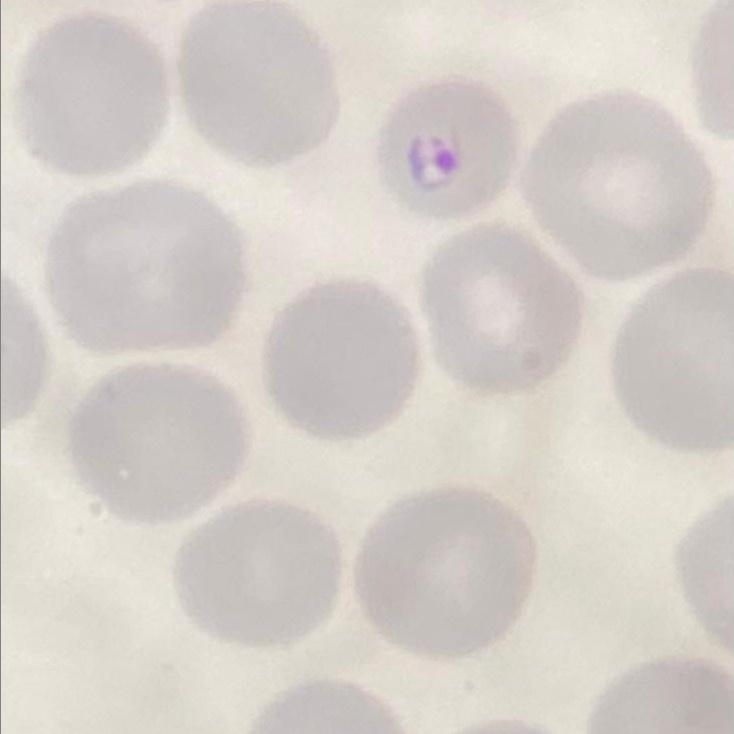Infected: (370, 77, 514, 220)
Uninfected: (46, 171, 245, 362), (528, 89, 709, 284), (360, 491, 545, 664), (70, 361, 250, 524), (424, 221, 582, 393), (262, 277, 423, 444), (18, 13, 177, 182), (170, 497, 342, 649), (180, 1, 335, 162), (608, 269, 734, 453)
